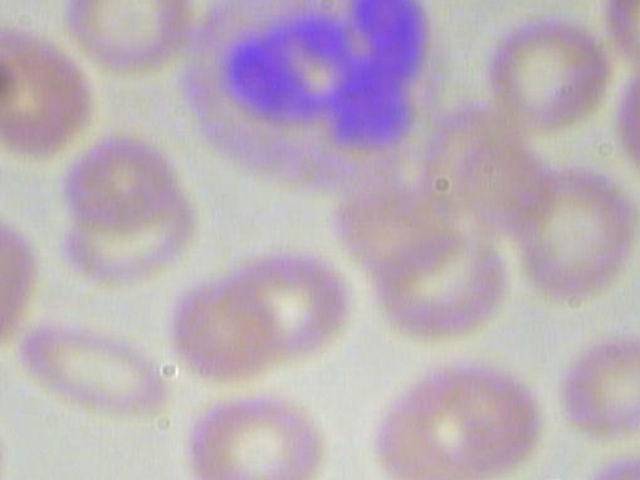RBC: (359, 206, 524, 345), (12, 307, 184, 430), (484, 6, 614, 138), (405, 359, 551, 472), (0, 15, 101, 166), (163, 278, 293, 390), (180, 390, 336, 480), (61, 0, 199, 77), (547, 329, 640, 440), (0, 206, 52, 357), (578, 444, 640, 480), (0, 387, 8, 480)
